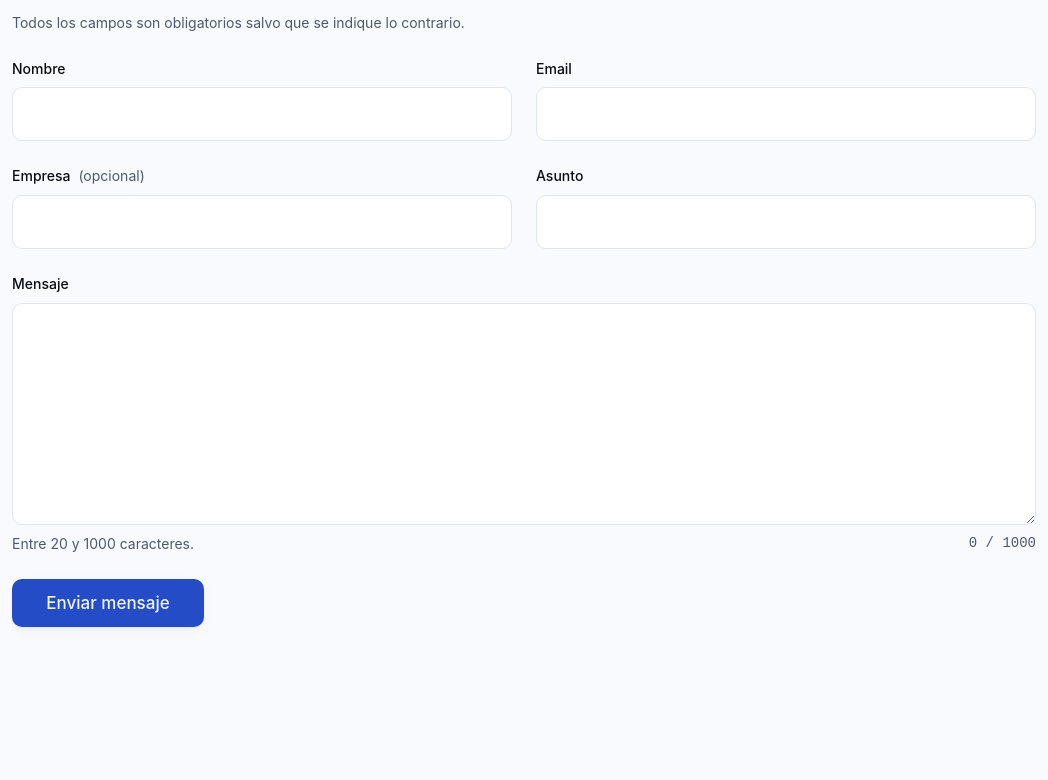
ContactForm › explains rate limiting
Type "  María   José  " into the field labelled "Nombre". click: (262, 114)
box: top-left (12, 87), bottom-right (512, 141)
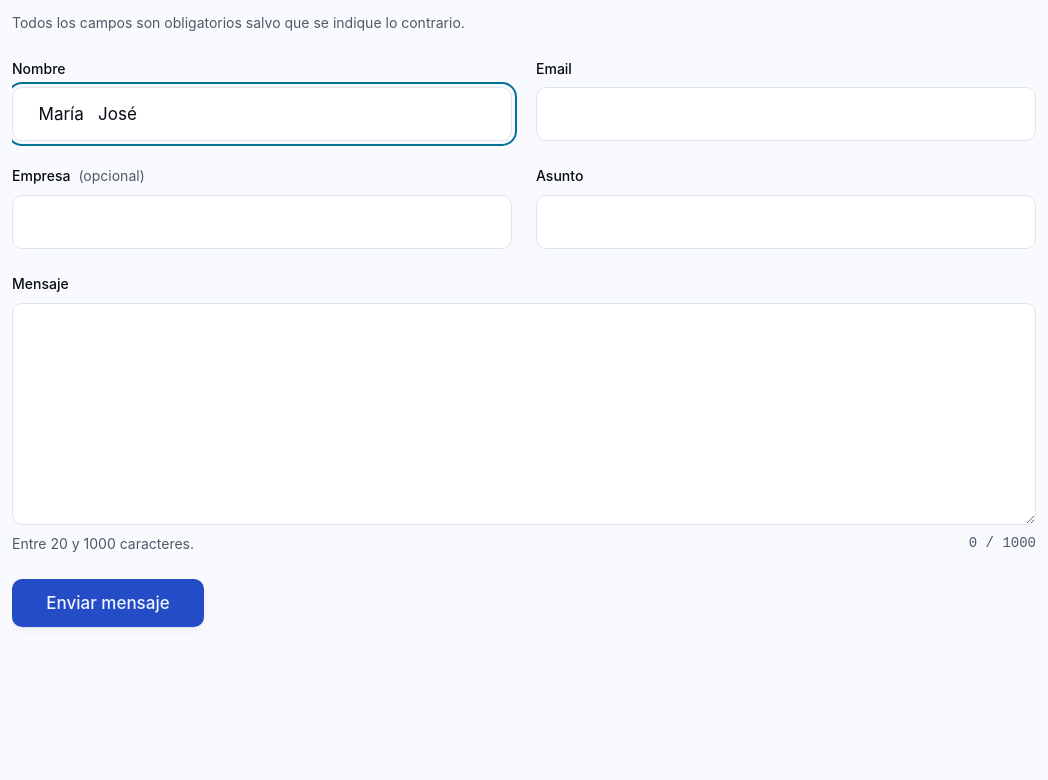
Type "maria@example.com" into the field labelled "Email". click: (786, 114)
box: top-left (536, 87), bottom-right (1036, 141)
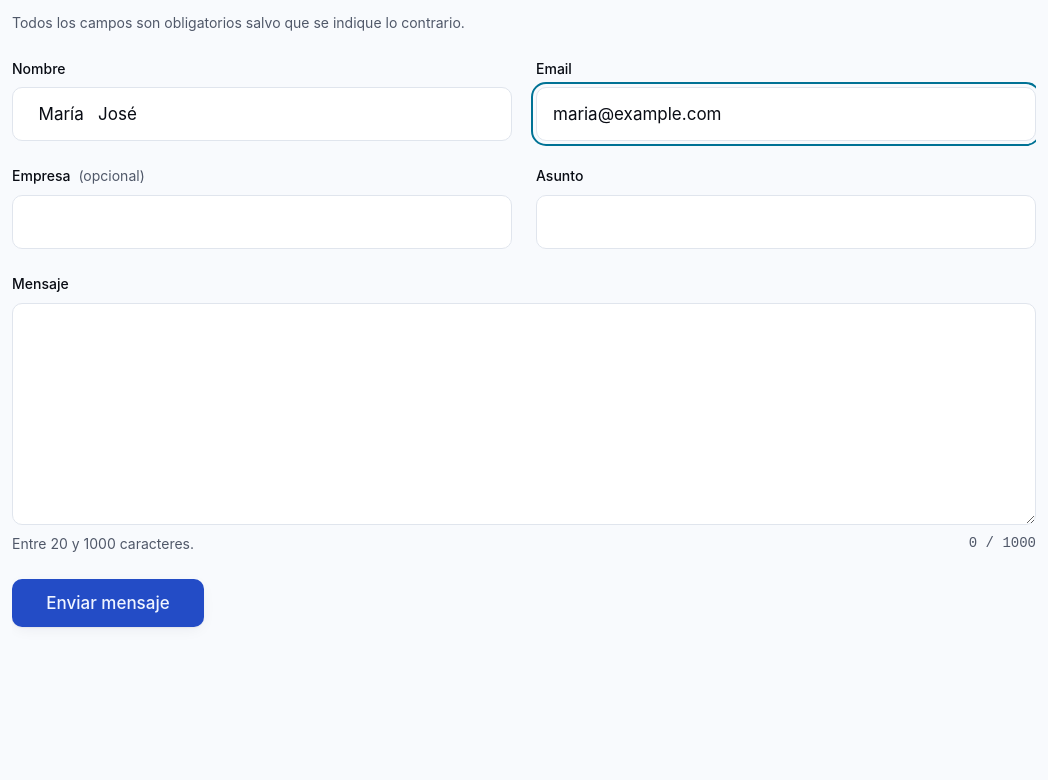
Type "Posición frontend" into the field labelled "Asunto". click: (786, 222)
box: top-left (536, 195), bottom-right (1036, 249)
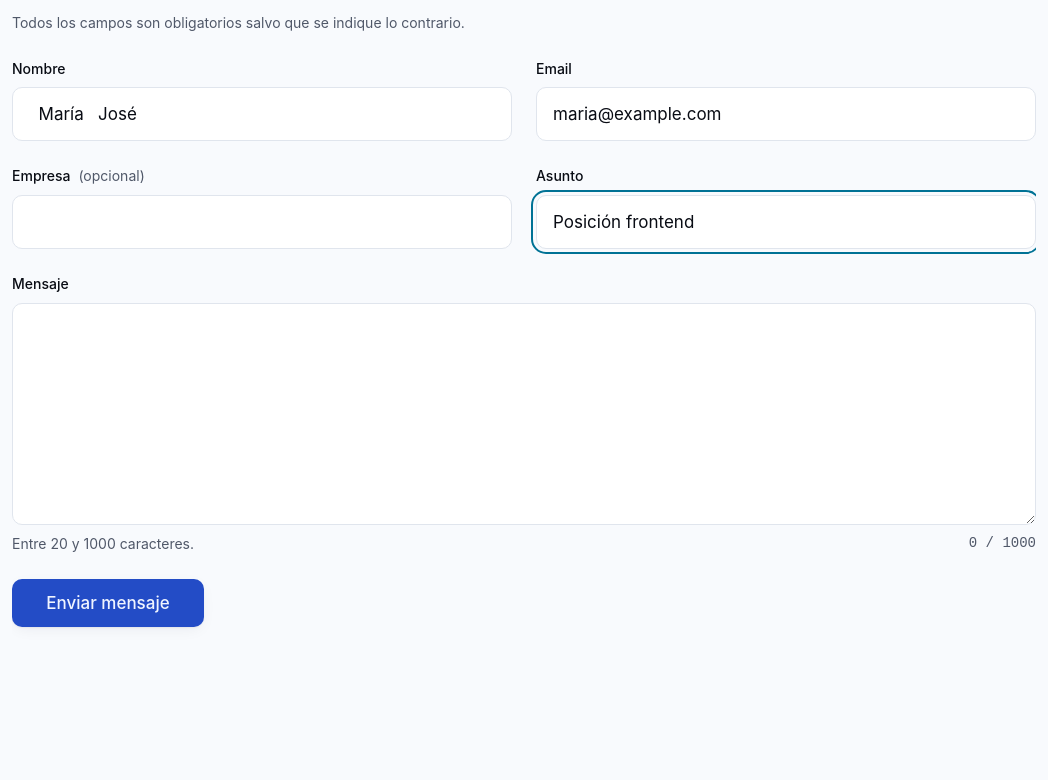
Type "Hola Luciano, me gustaría conversar." into the text box labelled "Mensaje". click: (524, 414)
box: top-left (12, 303), bottom-right (1036, 525)
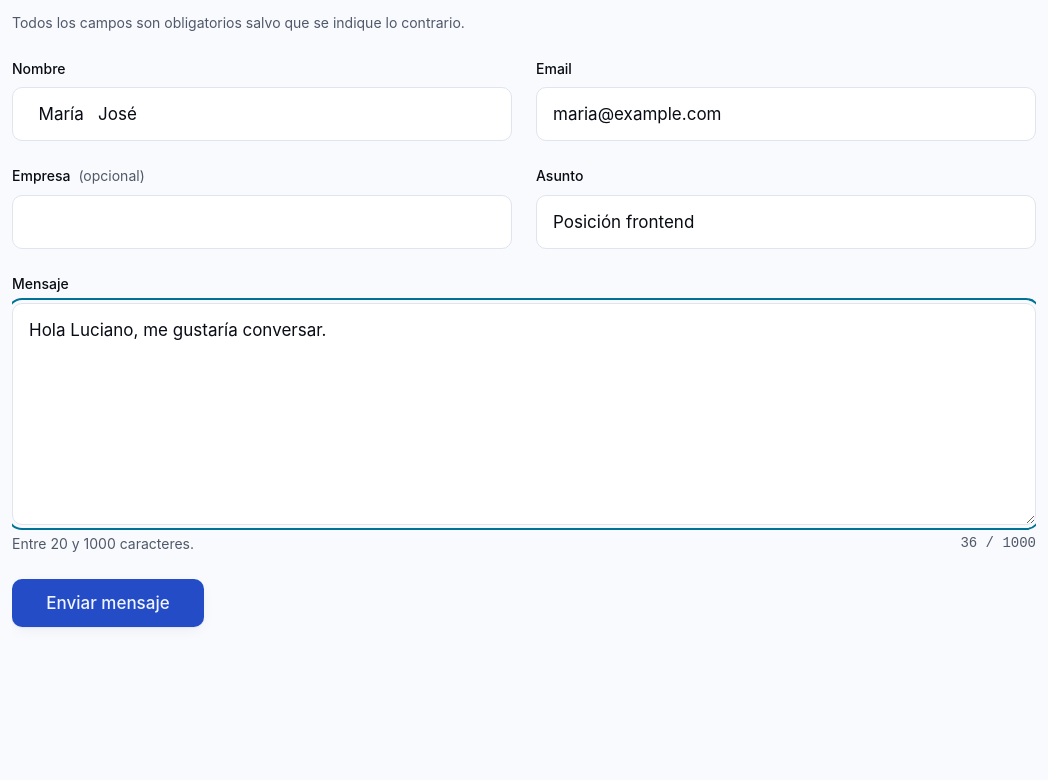
Click the button "Enviar mensaje". click: (108, 603)
box: top-left (12, 579), bottom-right (204, 627)
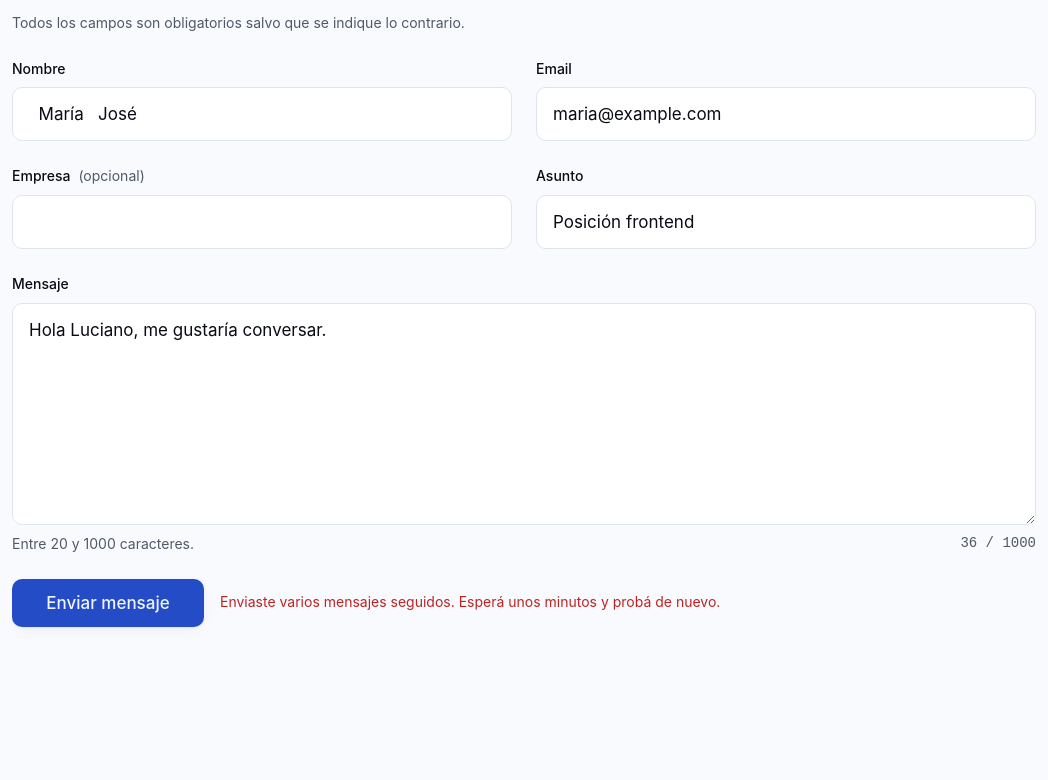
Check: the text "Esperá unos minutos" is shown, box top-left (220, 593), bottom-right (720, 610)
